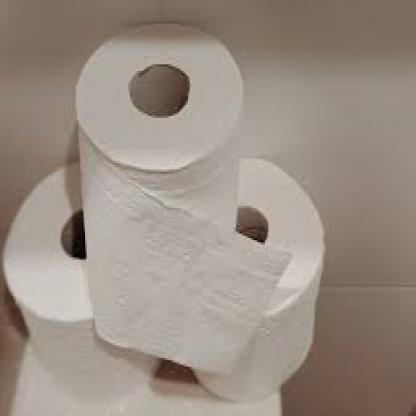tissue: (74, 20, 245, 331)
